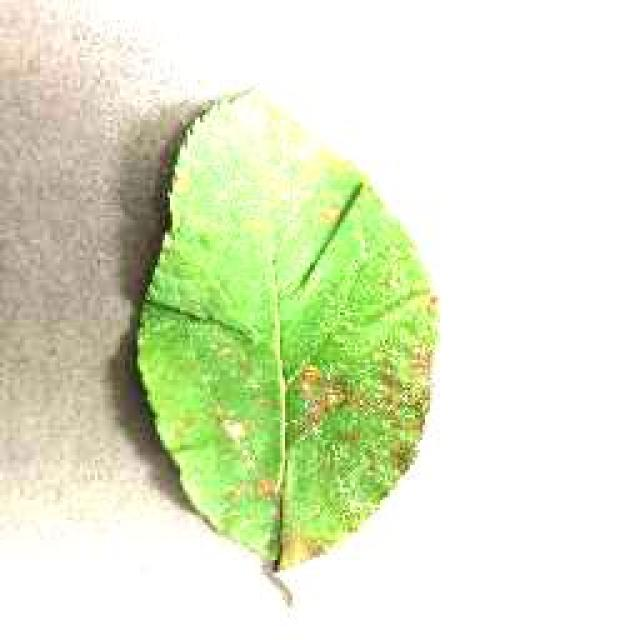apple cedar apple rust: (130, 82, 440, 578)
